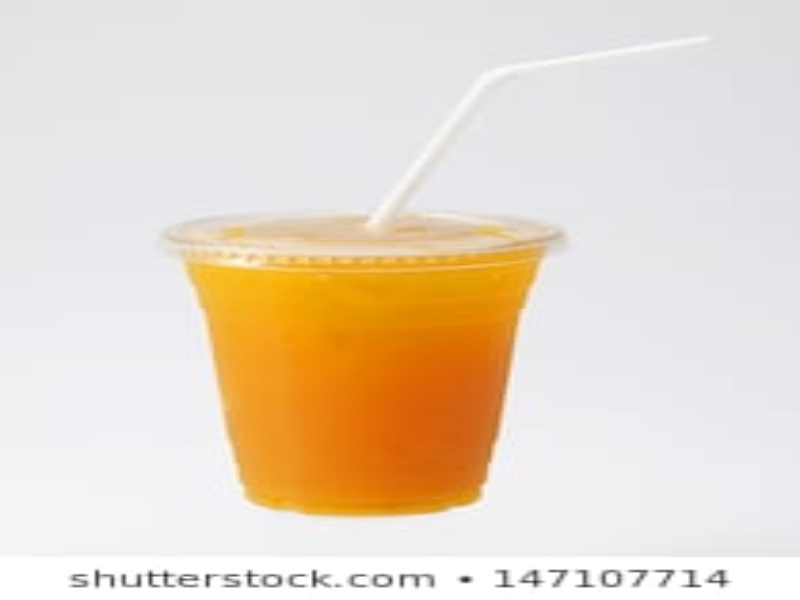plastic-cup: (161, 210, 566, 517)
straw: (359, 33, 719, 234)
